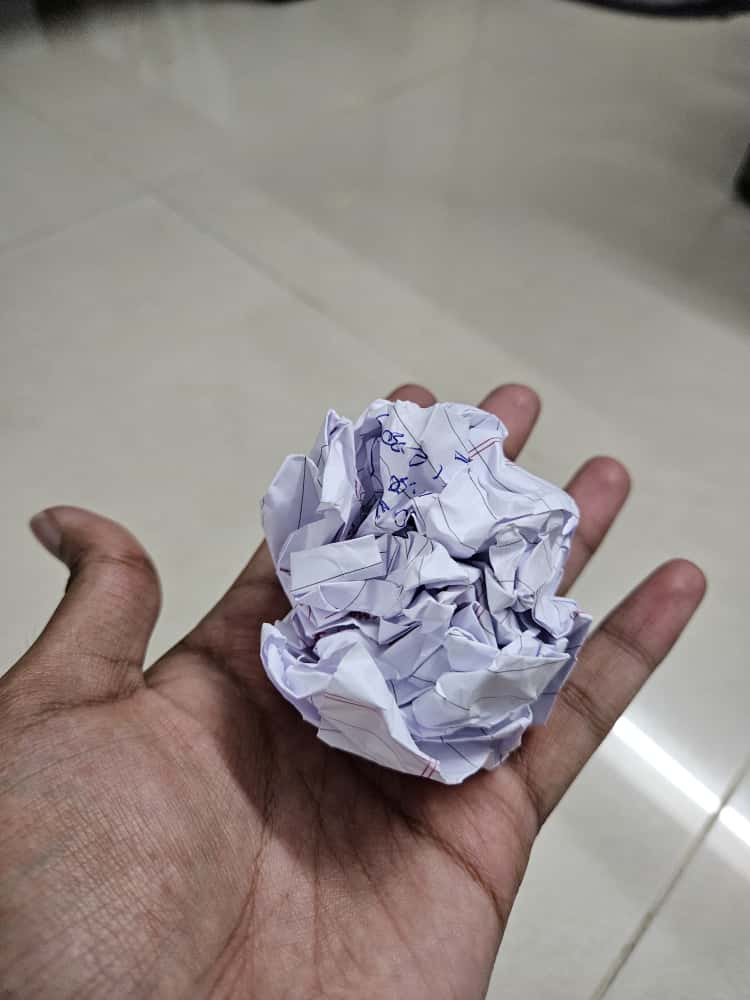dry: (258, 374, 592, 805)
